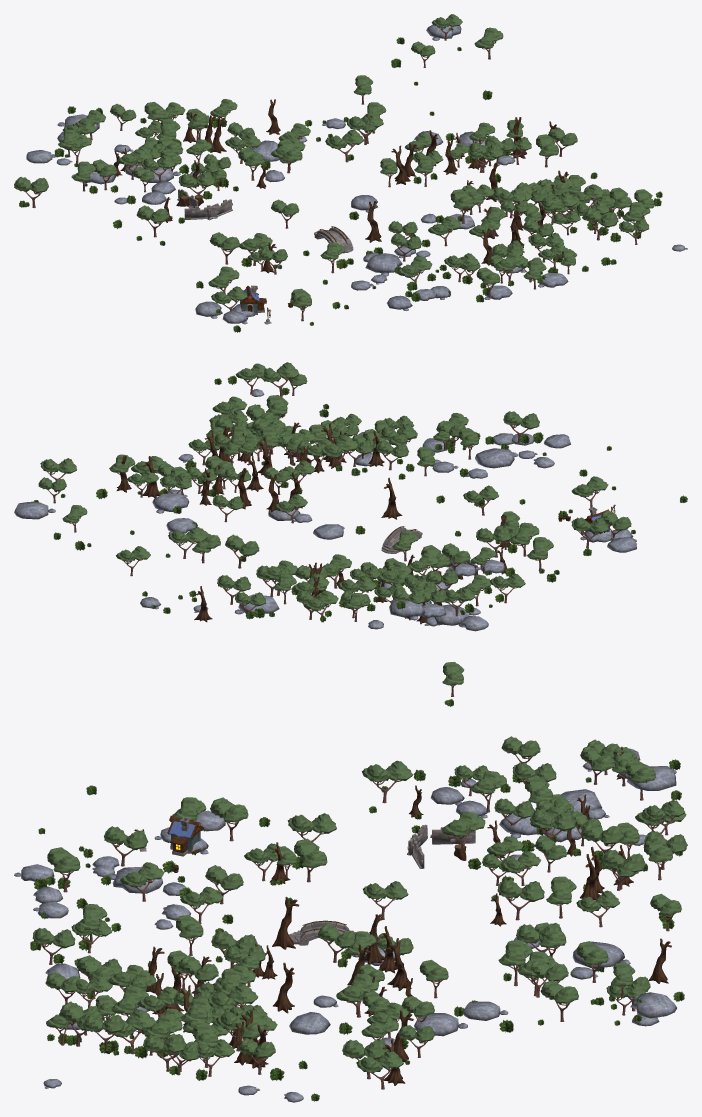
The model's file is runewood_newmap_dressing.glb.
3 views of the same model, one above another, from view 1: azimuth 30°, elevation 25°; view 2: azimuth 150°, elevation 25°; view 3: azimuth 270°, elevation 25° (orthographic). The views are drawn at different scales.
Parts seen in each view (by area): view 1: Reused_RockMedium, Reused_Stylized Hut01, Reused_CommonTree_1.072, Reused_Bridge01, Reused_CommonTree_1.117, Reused_CommonTree_1.023; view 2: Reused_RockMedium, Reused_RockMedium.010, Reused_CommonTree_1.088, Reused_RockMedium.036, Reused_CommonTree_1.098, Reused_CommonTree_1.080; view 3: Reused_Stylized Hut01, Reused_RockMedium.010, Reused_CommonTree_1.052, Reused_CommonTree_1.099, Reused_CommonTree_1.082, Reused_CommonTree_1.061, Reused_CommonTree_1.016, Reused_CommonTree_1.053, Reused_RockMedium.036, Reused_CommonTree_1.095, Reused_CommonTree_1.037, Reused_CommonTree_1.057 (+55 smaller).
Part boxes in pixels (x1,y1,x2,y2): Reused_RockMedium: [365, 253, 402, 276]; Reused_Stylized Hut01: [240, 285, 266, 316]; Reused_CommonTree_1.072: [325, 129, 364, 162]; Reused_Bridge01: [314, 226, 353, 253]; Reused_CommonTree_1.117: [583, 207, 618, 240]; Reused_CommonTree_1.023: [14, 177, 48, 208]; Reused_RockMedium: [475, 448, 518, 468]; Reused_RockMedium.010: [14, 501, 55, 519]; Reused_CommonTree_1.088: [260, 362, 299, 396]; Reused_RockMedium.036: [152, 493, 189, 513]; Reused_CommonTree_1.098: [322, 435, 358, 465]; Reused_CommonTree_1.080: [503, 411, 539, 443]; Reused_Stylized Hut01: [167, 815, 203, 856]; Reused_RockMedium.010: [630, 992, 676, 1018]; Reused_CommonTree_1.052: [362, 760, 413, 803]; Reused_CommonTree_1.099: [497, 879, 544, 920]; Reused_CommonTree_1.082: [336, 973, 378, 1017]; Reused_CommonTree_1.061: [287, 813, 336, 841]; Reused_CommonTree_1.016: [104, 826, 148, 866]; Reused_CommonTree_1.053: [442, 811, 485, 847]; Reused_RockMedium.036: [414, 1013, 467, 1036]; Reused_CommonTree_1.095: [356, 1050, 403, 1089]; Reused_CommonTree_1.037: [207, 983, 258, 1008]; Reused_CommonTree_1.057: [210, 797, 248, 841].
Size of the model in its own units: 98.04 by 22.08 by 94.9.
16 materials, 13 textured.
